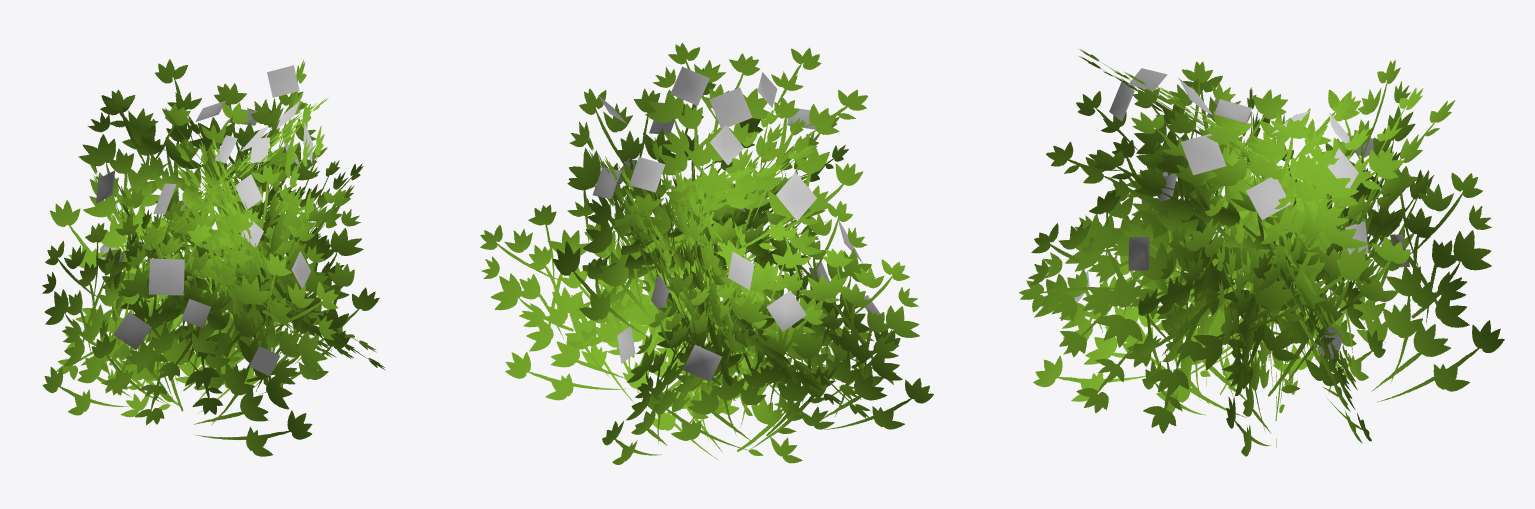
Rendered from SM_FlowerBush01.fbx.
The picture shows the model from 3 angles, left to right: view 1: azimuth 30°, elevation 25°; view 2: azimuth 150°, elevation 25°; view 3: azimuth 270°, elevation 25°; orthographic projection. The views are drawn at different scales.
Visible parts, largest first — view 1: SM_FlowerBush01; view 2: SM_FlowerBush01; view 3: SM_FlowerBush01.
Boxes of the visible parts, left/top/right/bottom form: SM_FlowerBush01: left=42, top=59, right=385, bottom=456; SM_FlowerBush01: left=480, top=42, right=933, bottom=464; SM_FlowerBush01: left=1019, top=49, right=1504, bottom=456.
Size of the model in its own units: 286 by 236 by 272.
